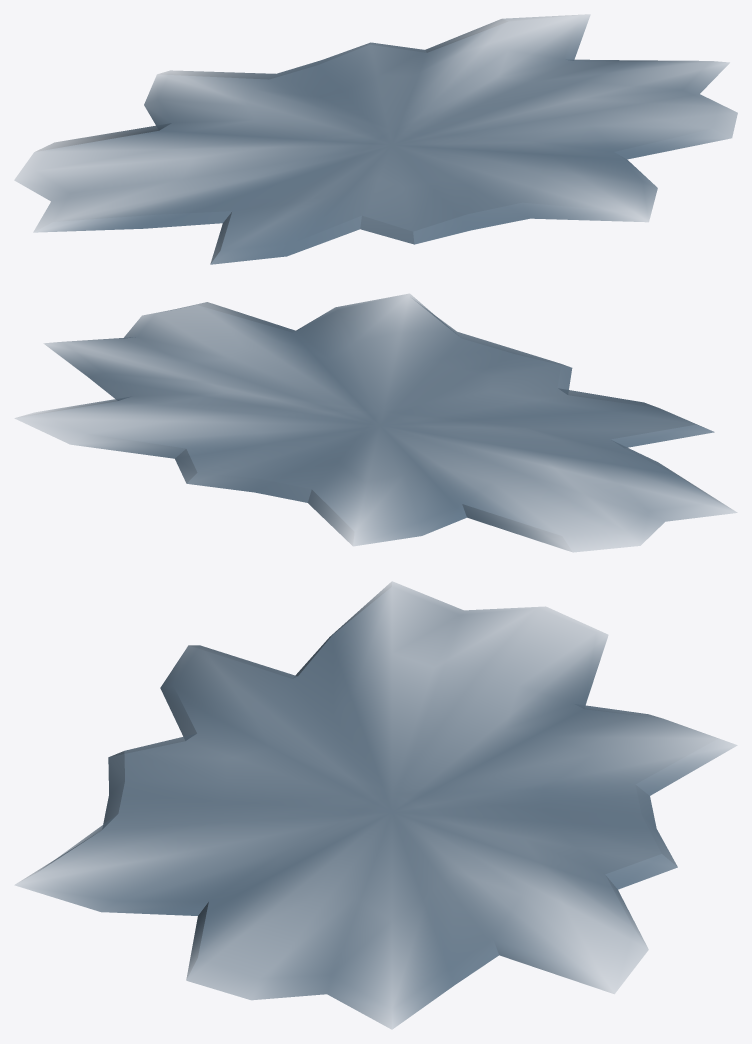
File: mist_sheet_a.glb
3 renders of one model, top to bottom at view 1: azimuth 30°, elevation 25°; view 2: azimuth 150°, elevation 25°; view 3: azimuth 270°, elevation 25°, orthographic. The views are drawn at different scales.
Parts seen in each view (by area): view 1: mist_sheet_a; view 2: mist_sheet_a; view 3: mist_sheet_a.
Part boxes in pixels (x1,y1,x2,y2): mist_sheet_a: (15, 14, 737, 264); mist_sheet_a: (15, 294, 736, 551); mist_sheet_a: (15, 581, 736, 1028).
Size of the model in its own units: 44 by 1.2 by 30.
